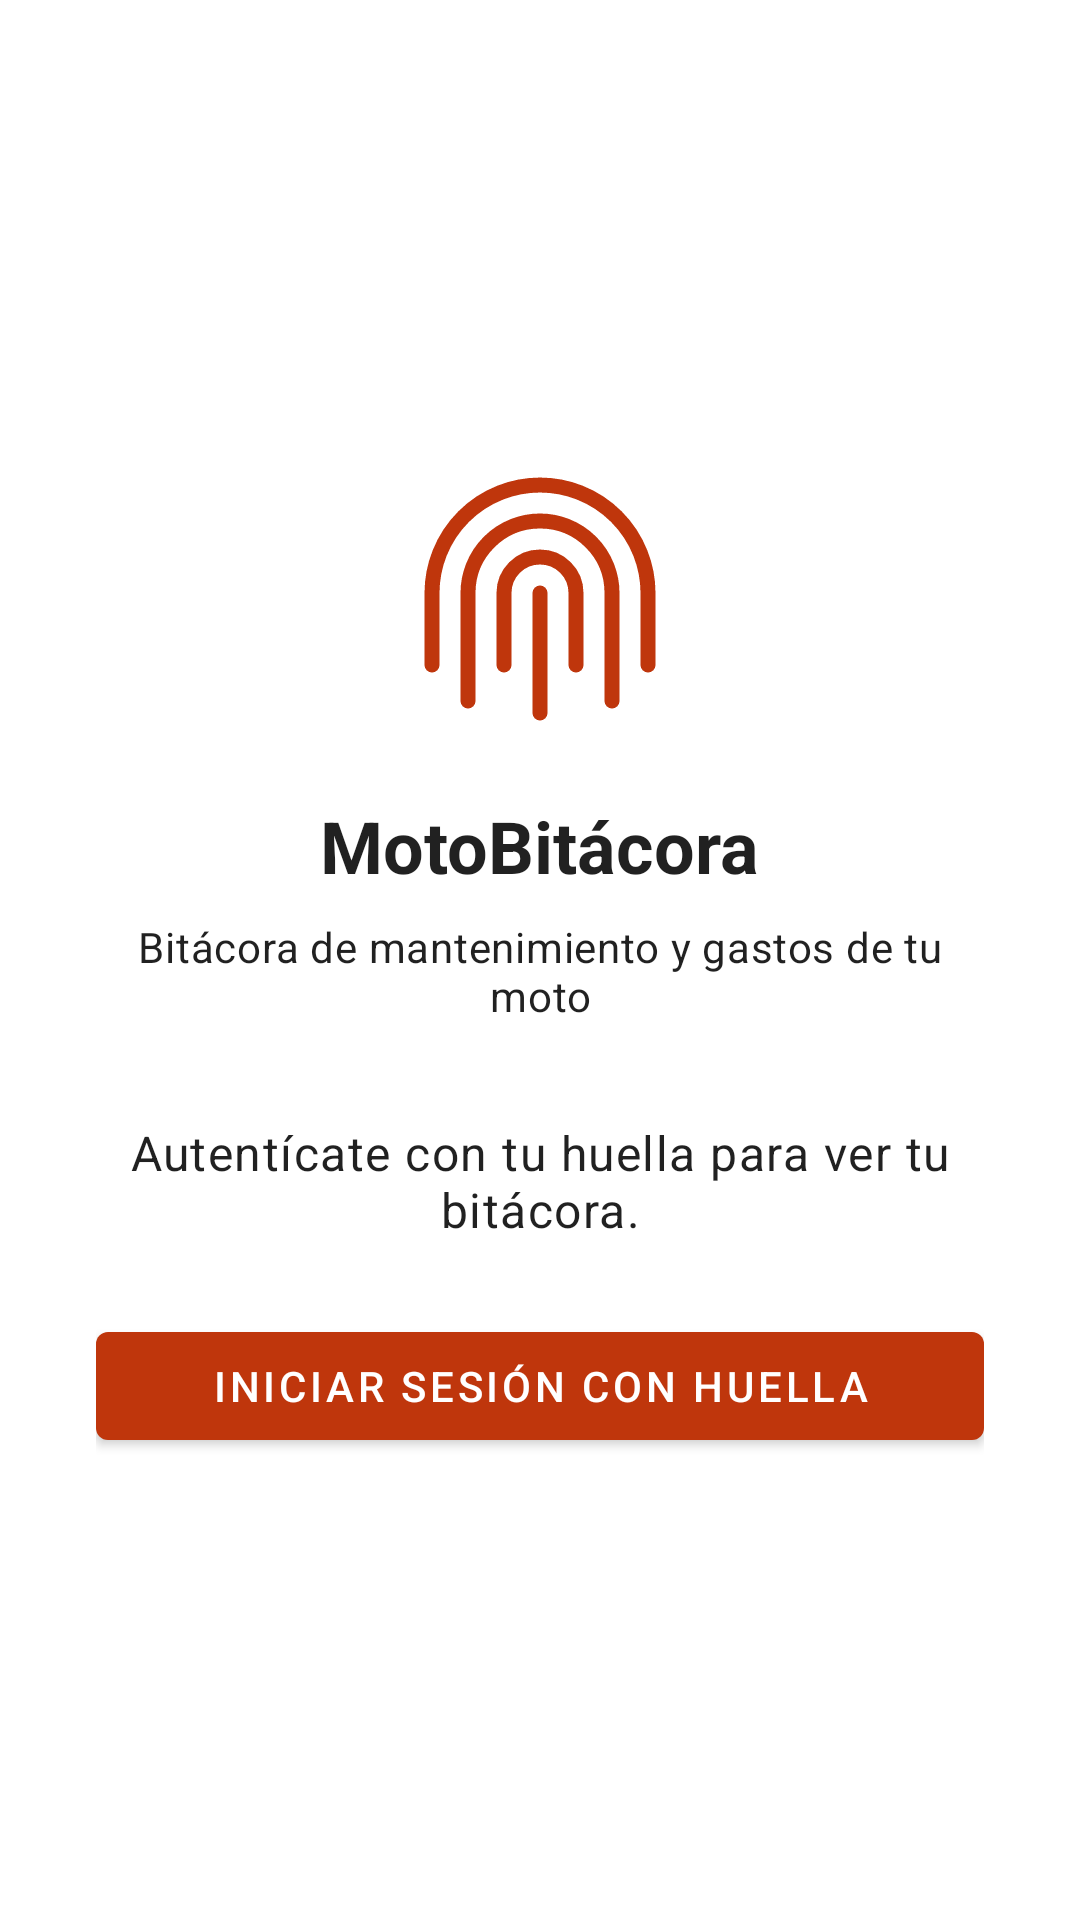

Named icons in this screenshot (1080 x 1920) and their bounding boxes, {"left": x1, "top": y1, "right": x2, "bottom": y2}:
Icono de huella digital: {"left": 424, "top": 477, "right": 656, "bottom": 721}
